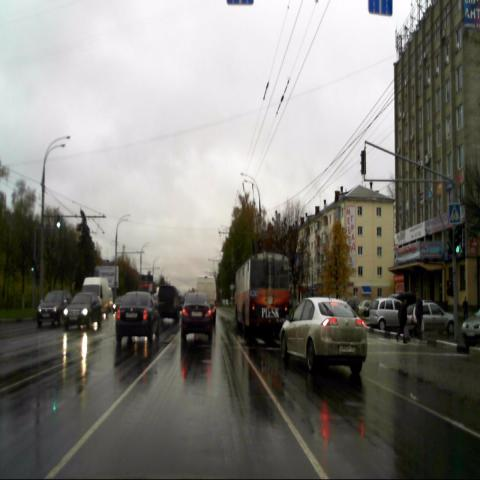5_19_1: (448, 203, 460, 225)
